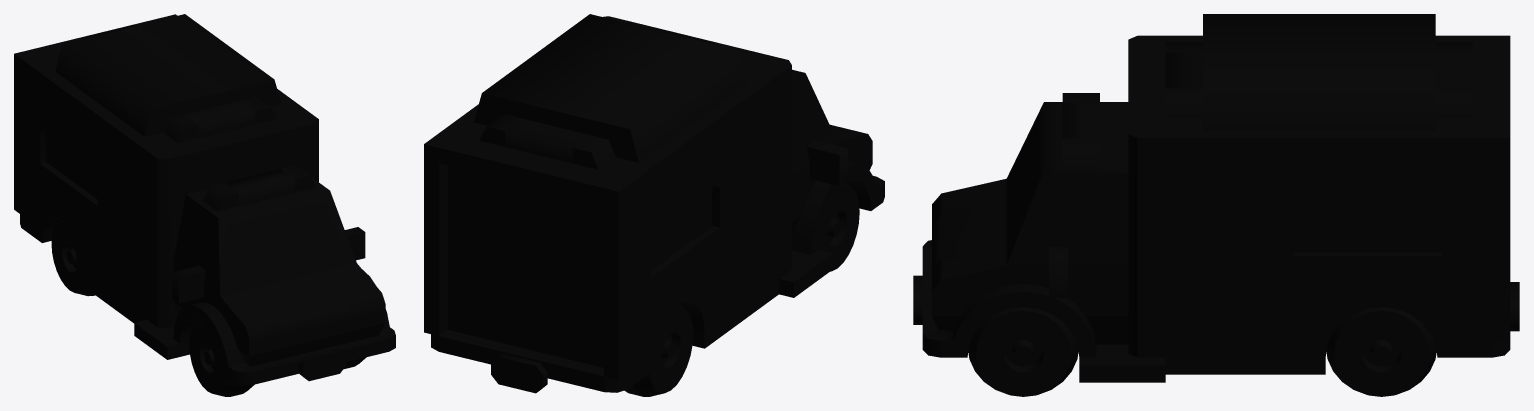
Rendered from ambulance.glb.
3 views of the same model, side by side, from view 1: azimuth 30°, elevation 25°; view 2: azimuth 150°, elevation 25°; view 3: azimuth 270°, elevation 25° (orthographic). The views are drawn at different scales.
Visible parts, largest first — view 1: body, wheel-front-right (×2); view 2: body, door-left, door-right, wheel-front-right (×2); view 3: body, wheel-front-left (×2).
Part boxes in pixels (x1,y1,x2,y2): body: (14,14,395,385); wheel-front-right (×2): (51,219,254,396); body: (424,14,884,393); door-left: (447,165,530,349); door-right: (530,186,603,367); wheel-front-right (×2): (624,183,859,396); body: (913,14,1519,382); wheel-front-left (×2): (968,307,1436,396).
Size of the model in its own units: 1.5 by 1.8 by 3.25.
1 material, 1 textured.
